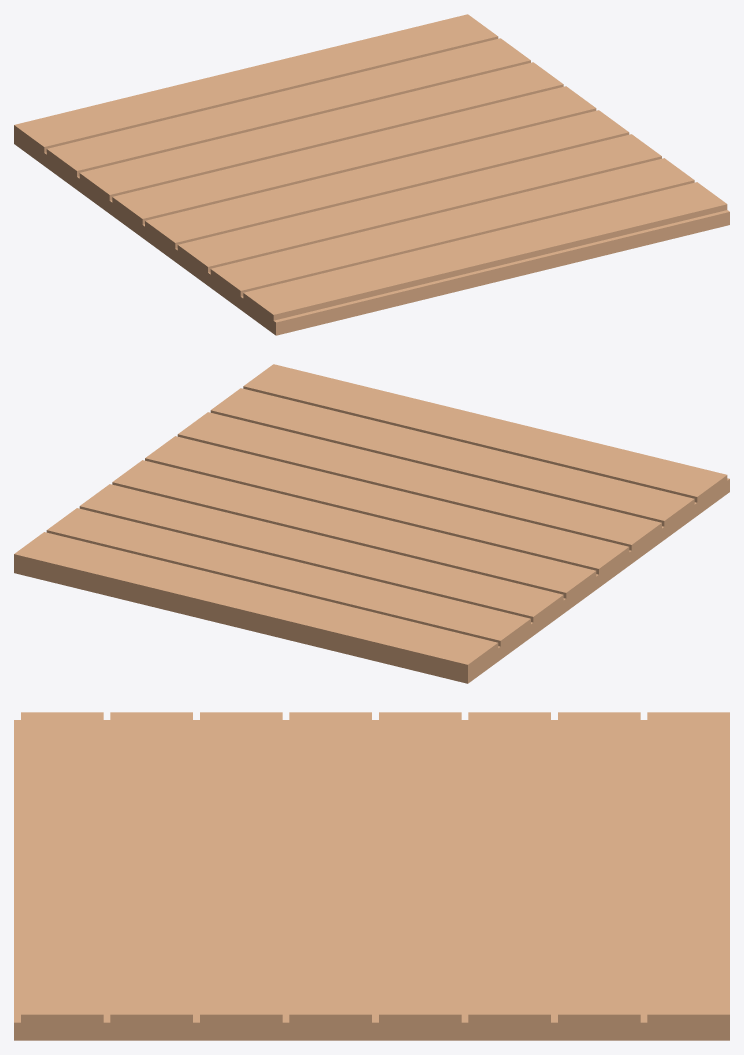
The model's file is cabinFloor.glb.
3 views of the same model, one above another, from view 1: azimuth 30°, elevation 25°; view 2: azimuth 150°, elevation 25°; view 3: azimuth 270°, elevation 25° (orthographic). The views are drawn at different scales.
Parts seen in each view (by area): view 1: cabinFloor; view 2: cabinFloor; view 3: cabinFloor.
Boxes of the visible parts, x1,y1,x2,y2 form: cabinFloor: [14, 14, 729, 335]; cabinFloor: [14, 364, 729, 683]; cabinFloor: [14, 712, 729, 1040].
Bounding box in the file's own units: 1 × 0.04 × 1.
